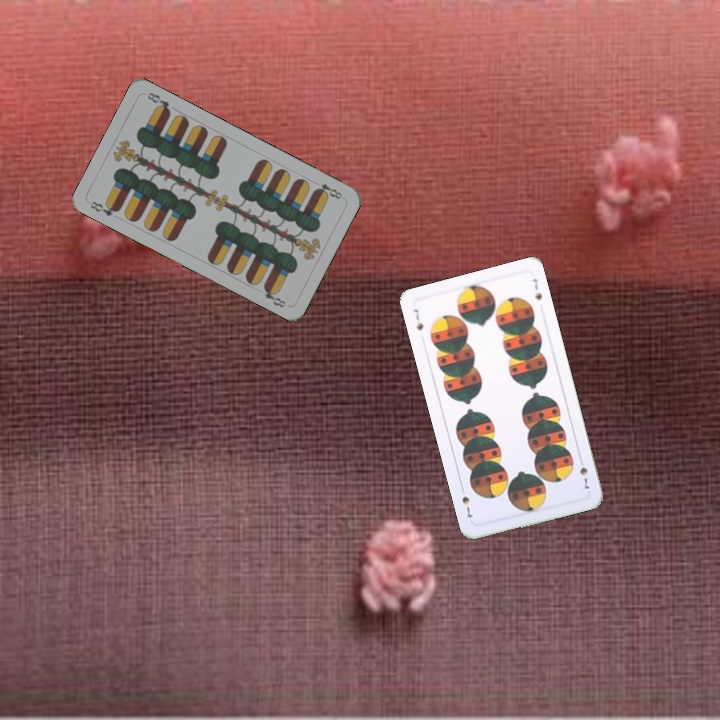E8: (311, 179, 346, 202), (86, 197, 122, 219)
S7: (575, 453, 592, 492), (409, 305, 426, 333)
